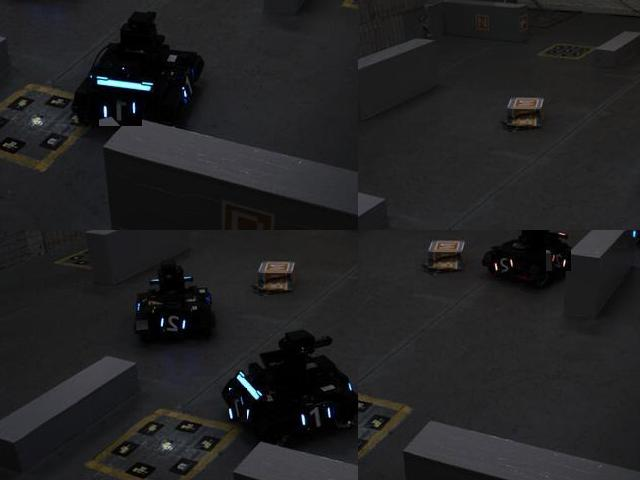armor: (294, 399, 337, 435), (99, 95, 143, 127), (155, 308, 194, 340), (178, 70, 199, 106), (492, 255, 522, 279), (230, 389, 249, 424), (546, 251, 572, 273)
